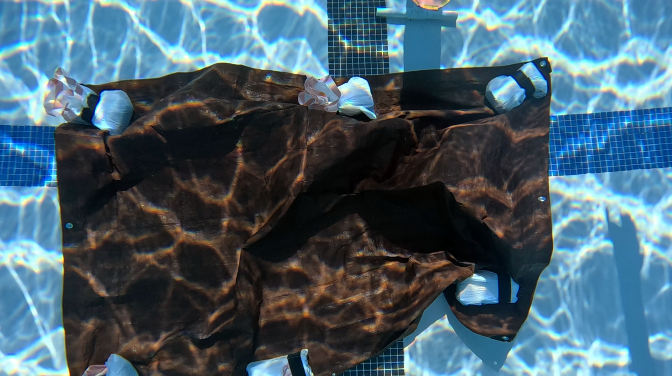pathmarker: (412, 0, 451, 10)
sandbag: (43, 56, 552, 375)
